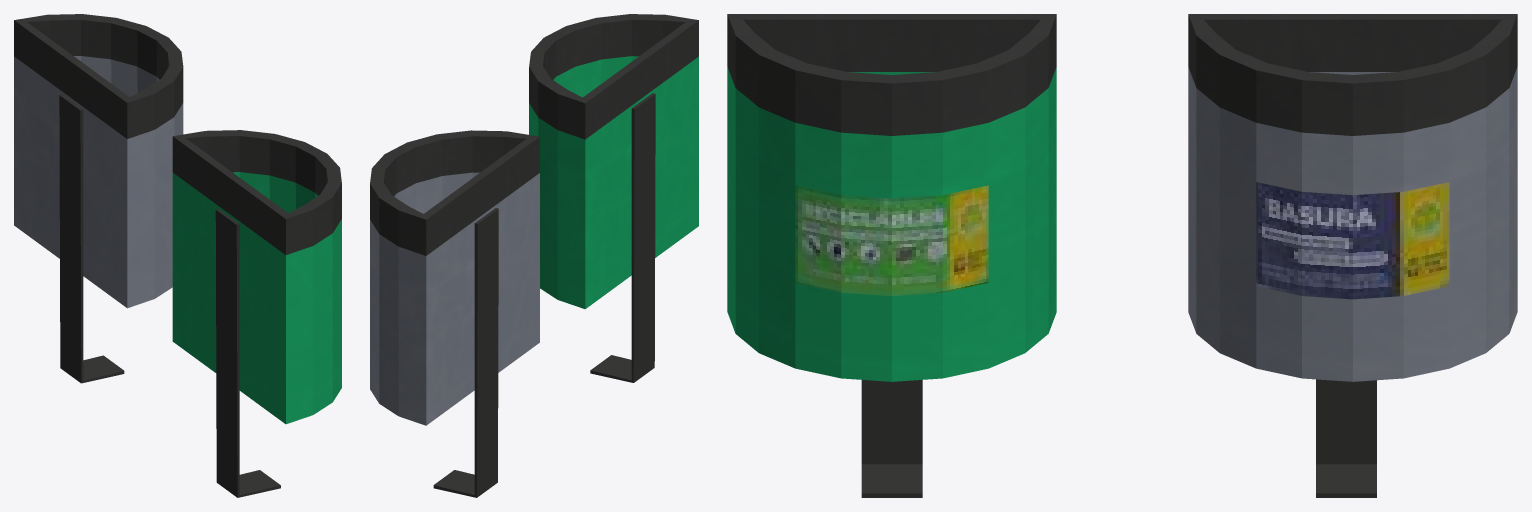
File: tachos.glb
3 views of the same model, side by side, from view 1: azimuth 30°, elevation 25°; view 2: azimuth 150°, elevation 25°; view 3: azimuth 270°, elevation 25° (orthographic). The views are drawn at different scales.
Visible parts, largest first — view 1: Cylinder.003; view 2: Cylinder.003; view 3: Cylinder.003.
Part boxes in pixels (bbox=[...]): Cylinder.003: bbox=[14, 14, 341, 497]; Cylinder.003: bbox=[370, 14, 698, 497]; Cylinder.003: bbox=[727, 14, 1517, 497].
Bounding box in the file's own units: 0.336 × 0.9941 × 1.56.
5 materials, 5 textured.
